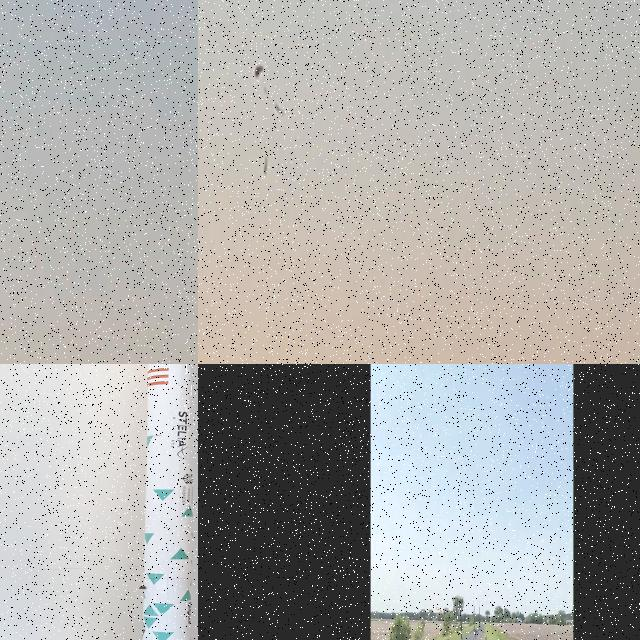Rocket: (138, 364, 196, 640), (263, 154, 268, 175), (460, 604, 462, 630)
